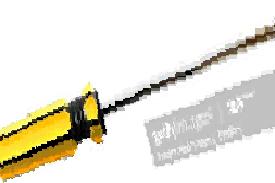Screwdriver: (1, 19, 275, 180)
